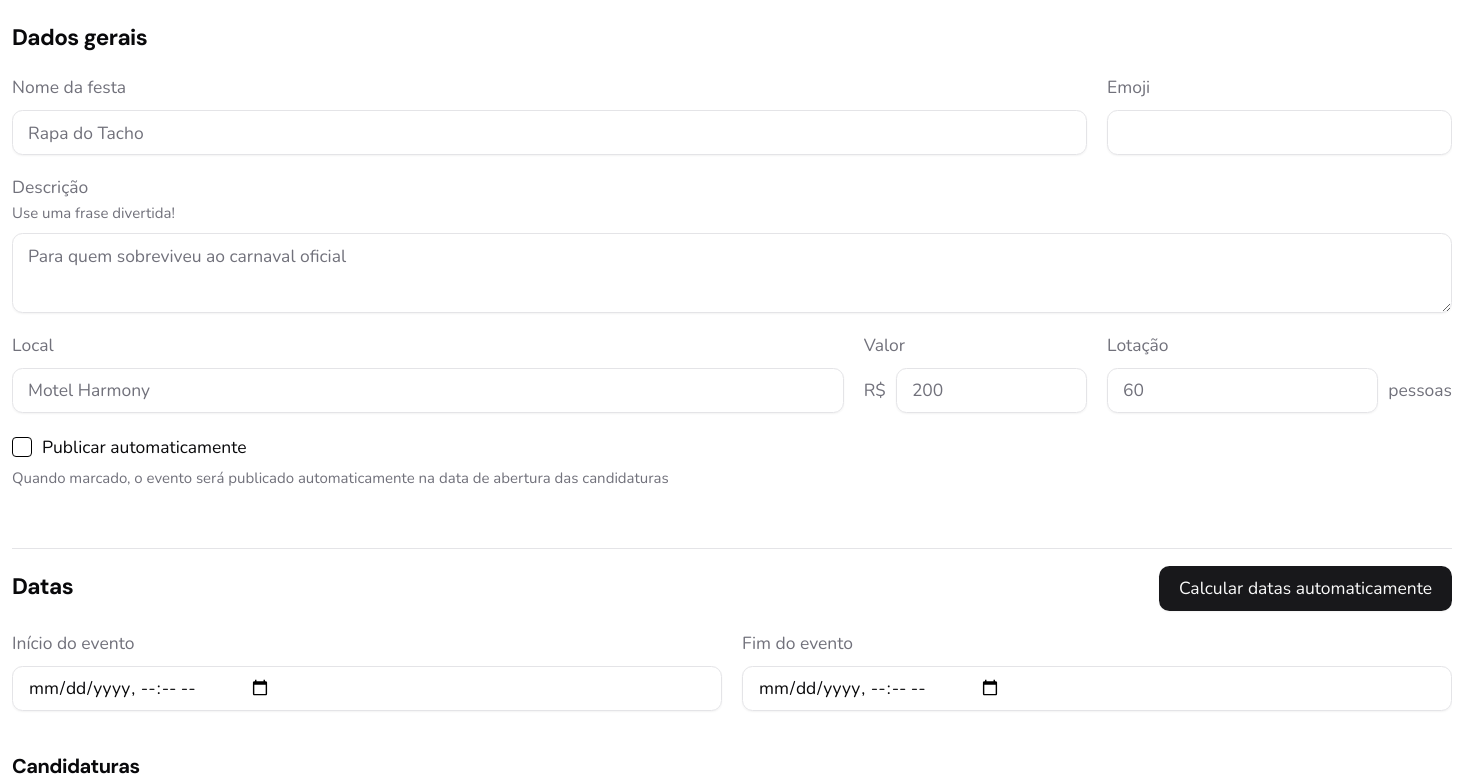
Scenario: buildEventLayout › asks for a starting time before it can work the rest out
The image size is (1464, 778).
Click the button "Calcular datas automaticamente". click: (1305, 588)
box: [1159,566,1452,610]
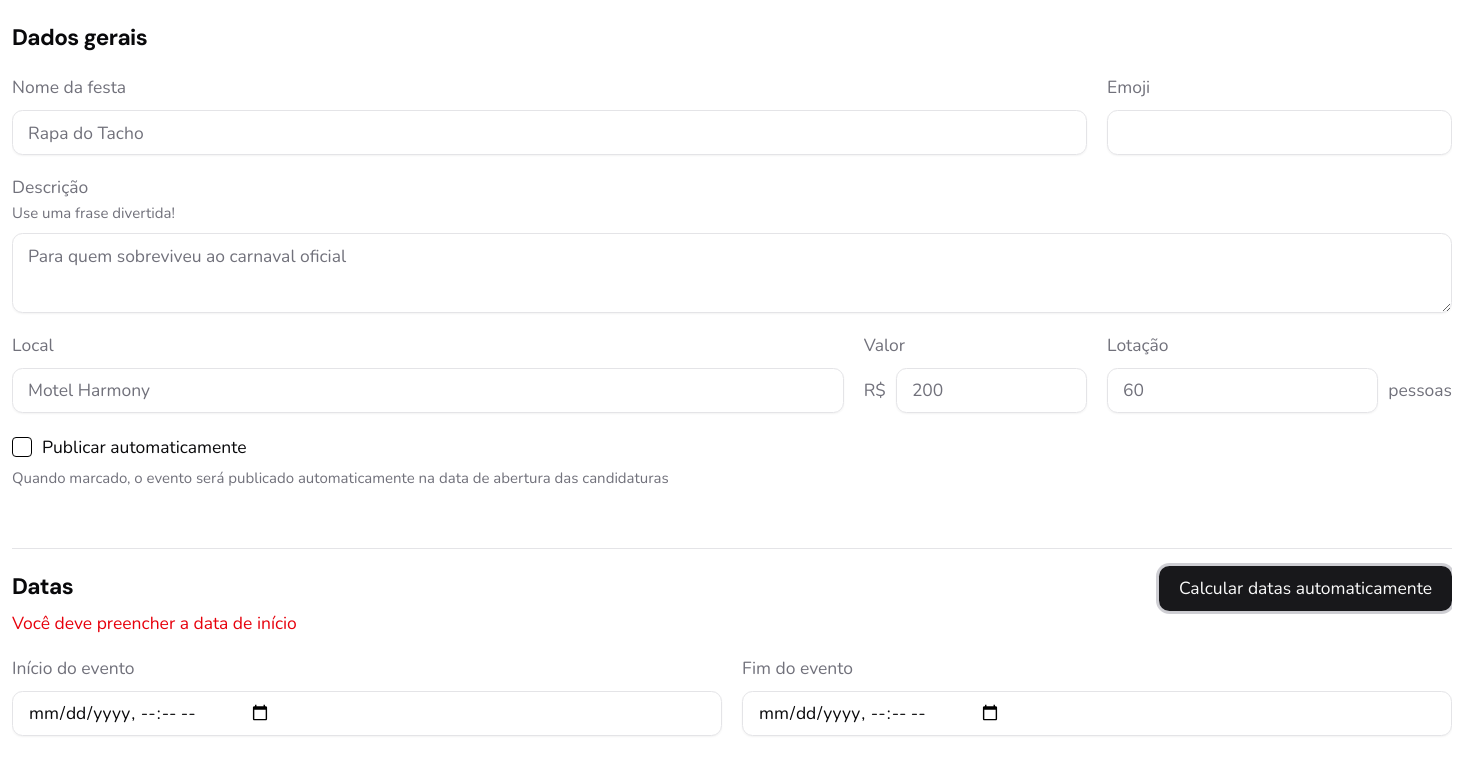
Check: the message reads "Você deve preencher a data de início", box [12,610,297,634]
